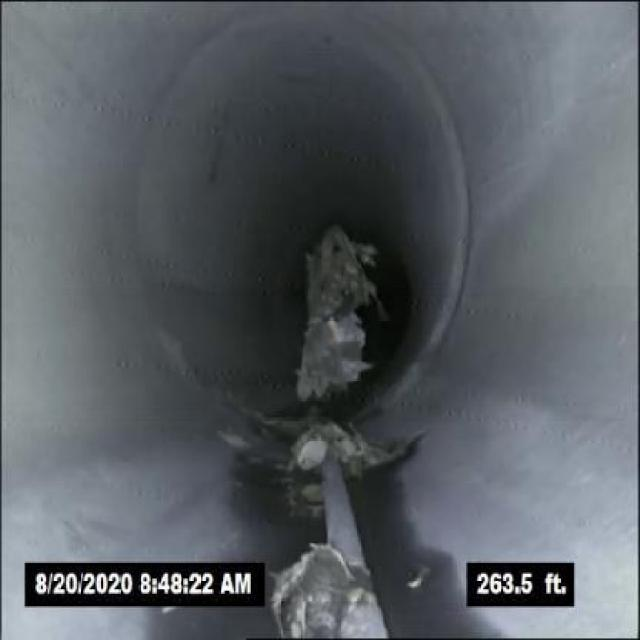Utility intrusion: (283, 423, 392, 639)
